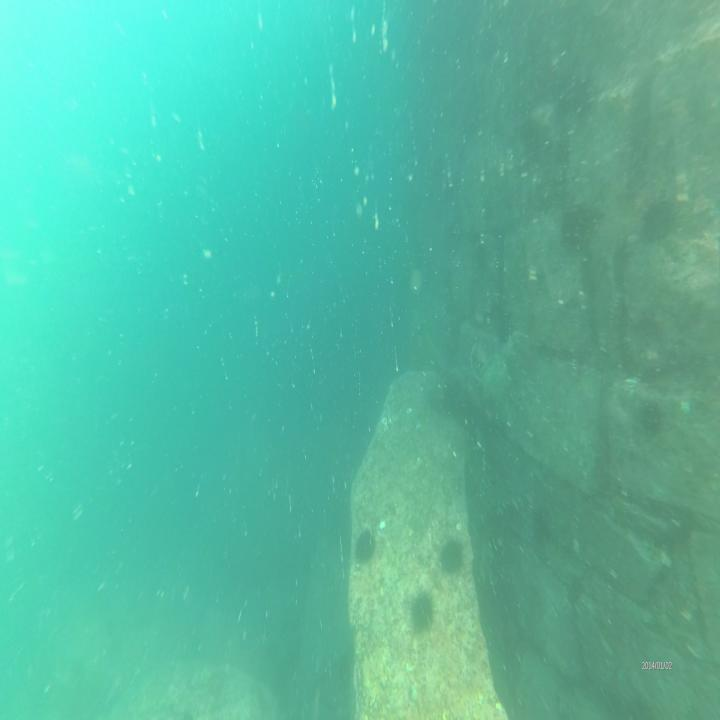echinus: (637, 195, 688, 246), (434, 538, 464, 578), (632, 401, 666, 436), (356, 529, 378, 568), (410, 590, 432, 627)
